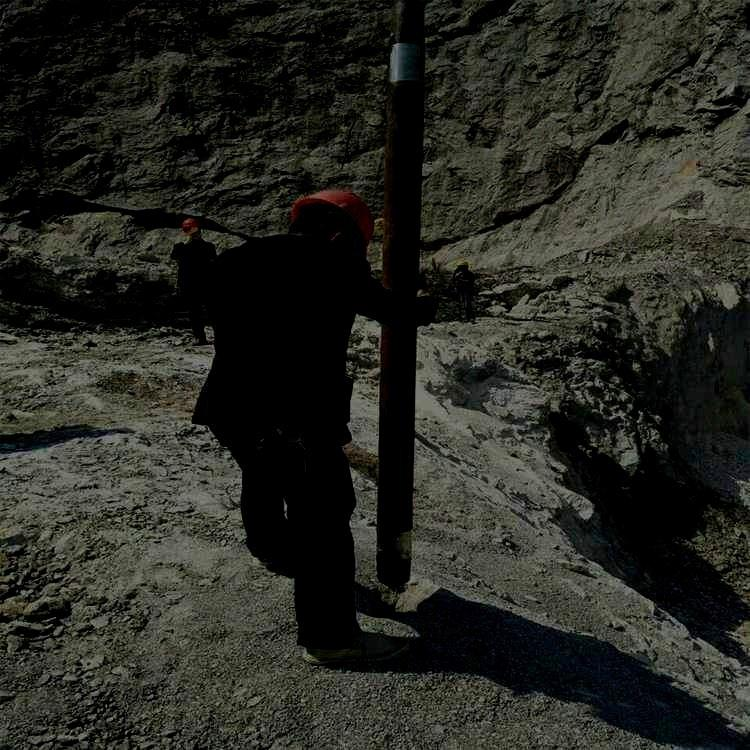helmet: (287, 188, 376, 258), (181, 218, 202, 241)
